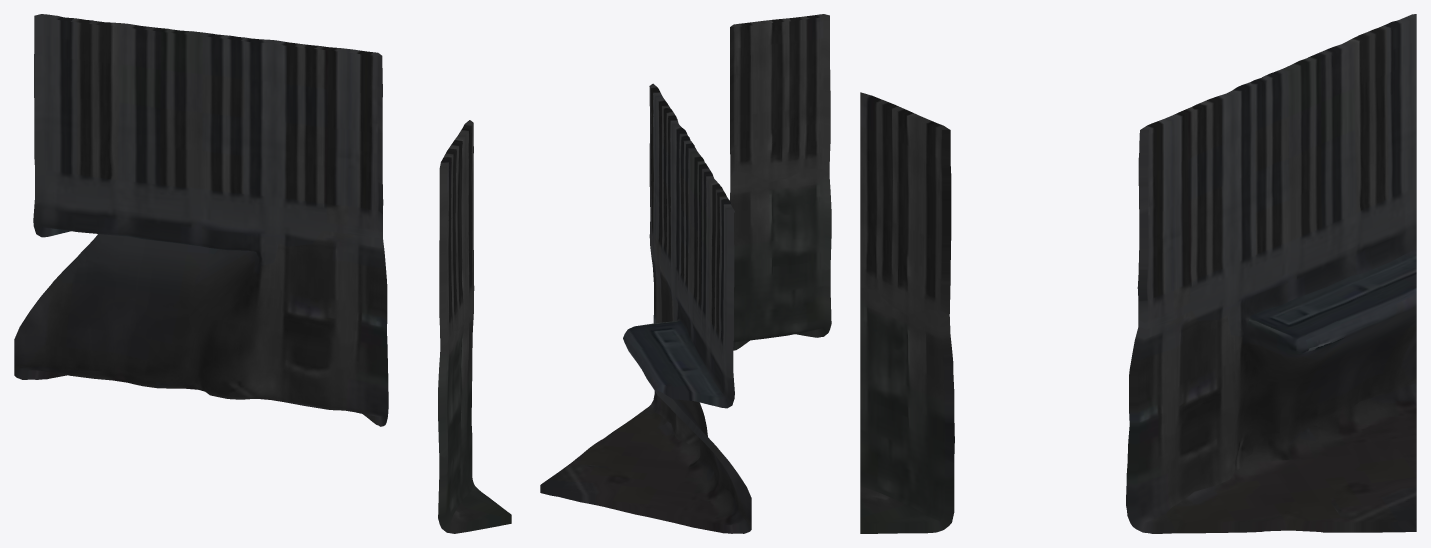
File: z20-167774-405238-h0-yup-uvflip-v3-world.glb
The picture shows the model from 3 angles, left to right: view 1: azimuth 30°, elevation 25°; view 2: azimuth 150°, elevation 25°; view 3: azimuth 270°, elevation 25°; orthographic projection. The views are drawn at different scales.
Bounding box in the file's own units: 16.32 × 24.28 × 30.32.
Materials: 1 (1 with a texture image).
